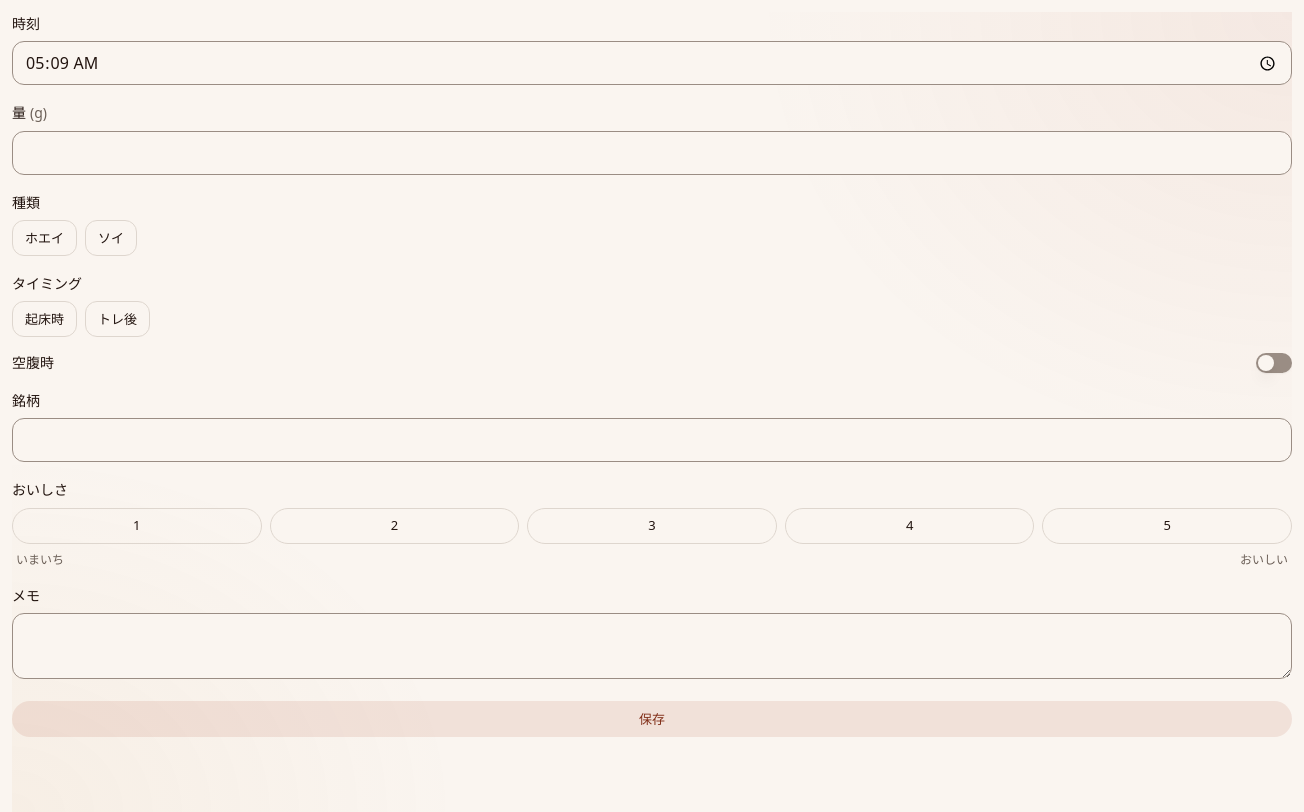
CustomRecordForm › does not save a value outside min/max
In the number field: (652, 152) x1=12 y1=130 x2=1292 y2=174, type "500"
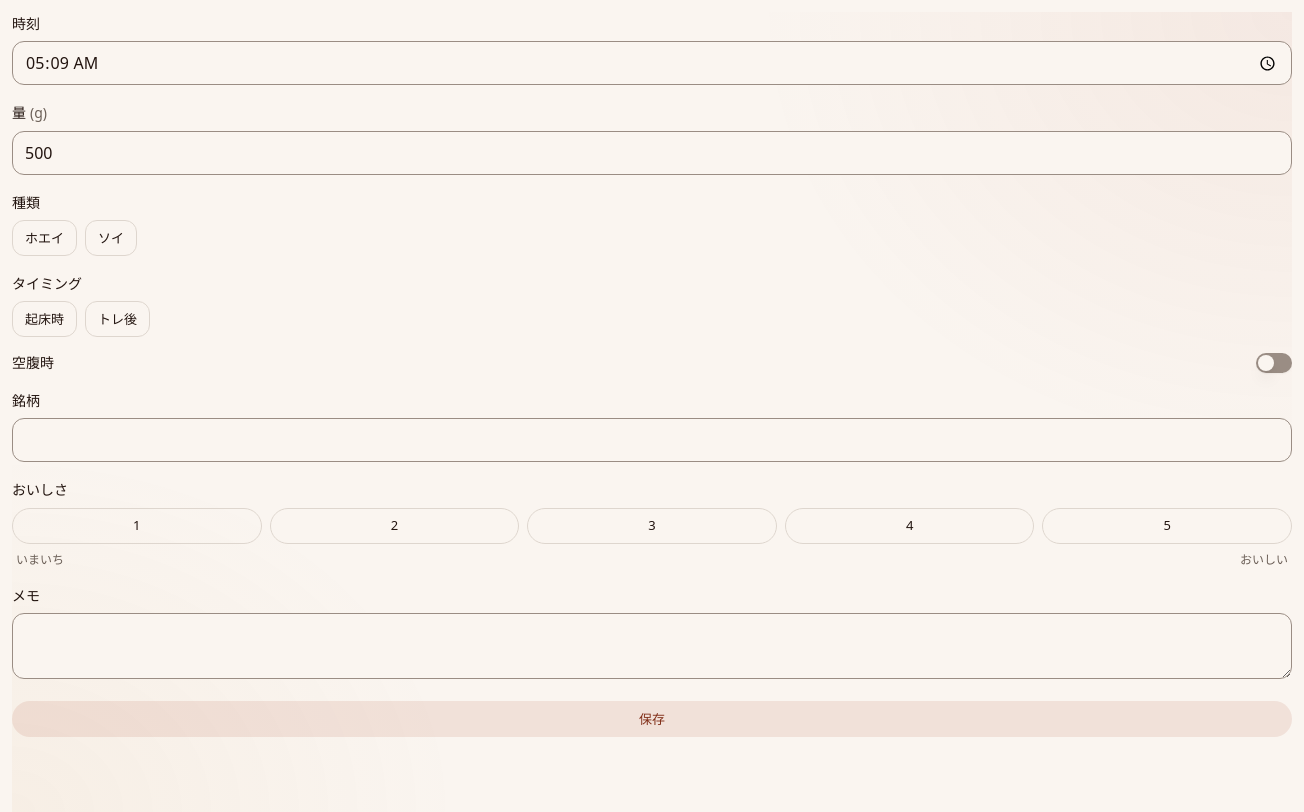
Click the button "保存": click(652, 719) x1=12 y1=701 x2=1292 y2=737
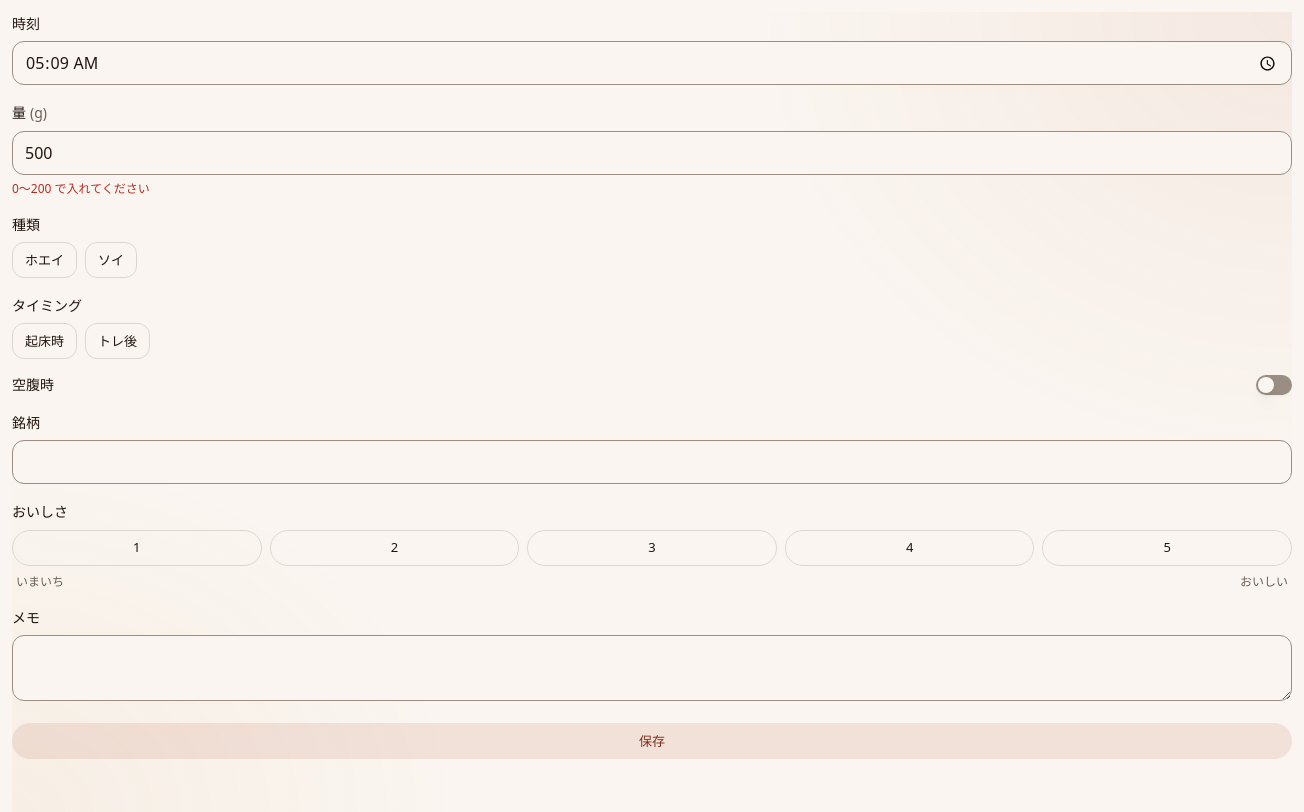
Expected: the text "0〜200 で入れてください" is shown, x1=12 y1=180 x2=150 y2=196
